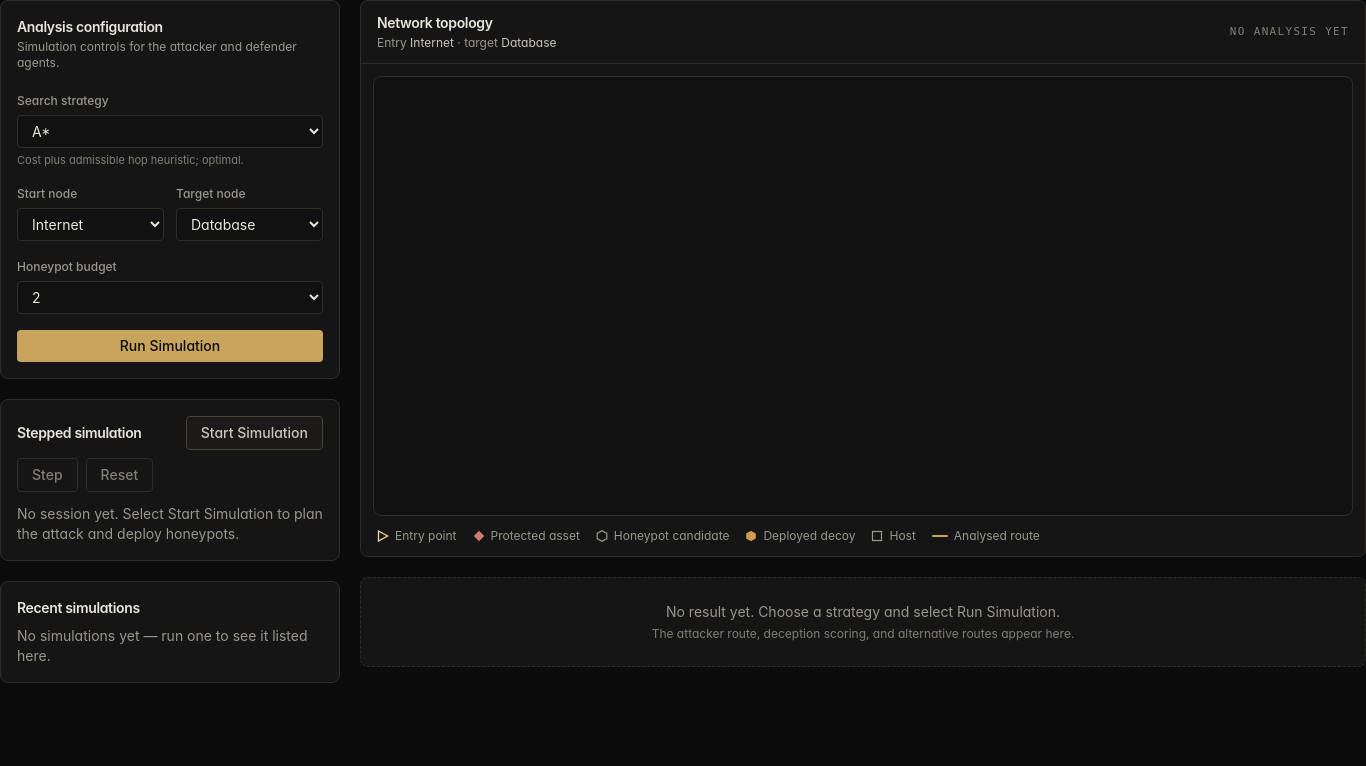
Test case: SimulationPanel › shows the result and records history after a successful run
Click the button "Run Simulation". click: (170, 346)
box: top-left (17, 330), bottom-right (323, 362)
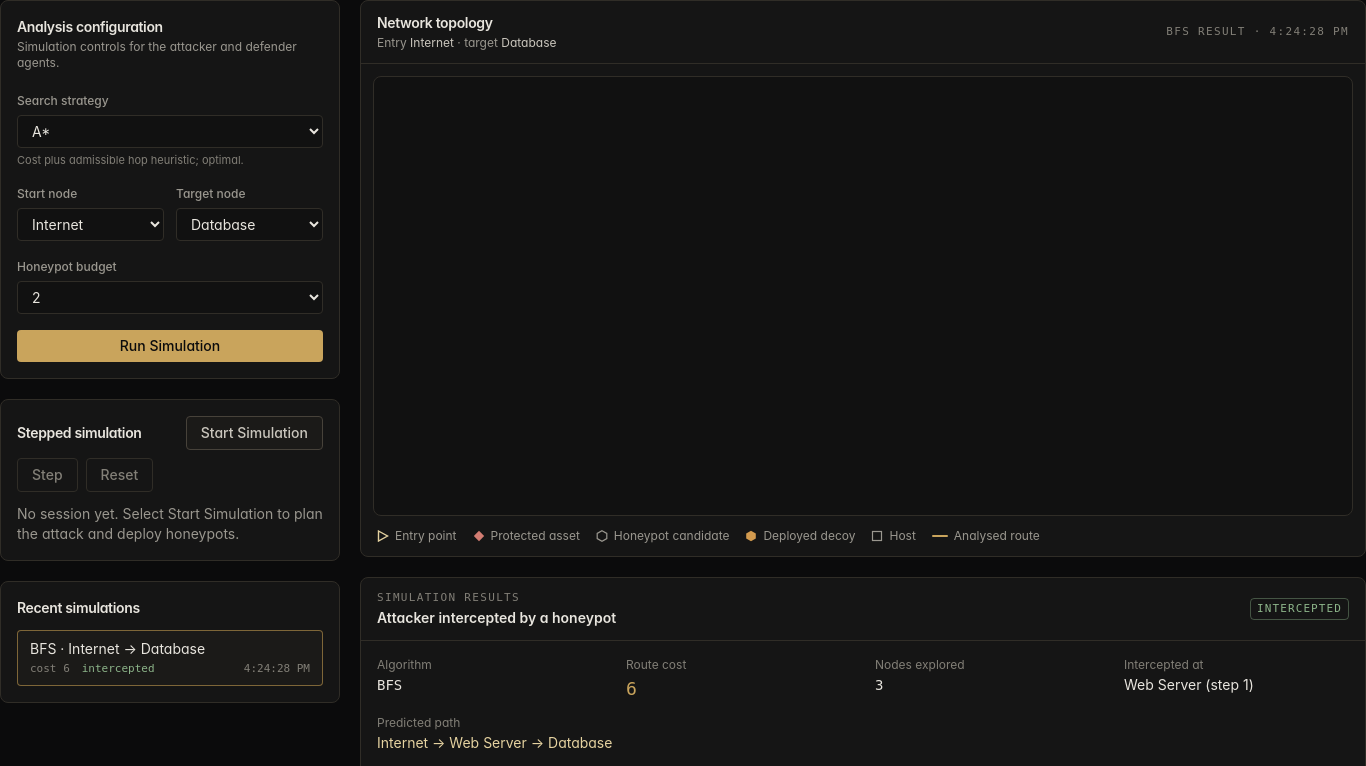
Expected: the heading "Attacker intercepted by a honeypot" is shown, top-left (377, 608), bottom-right (616, 628)
Expected: the text "Internet → Web Server → Database" is shown, top-left (377, 734), bottom-right (612, 751)
Expected: the text "6" is shown, top-left (626, 678), bottom-right (637, 699)
